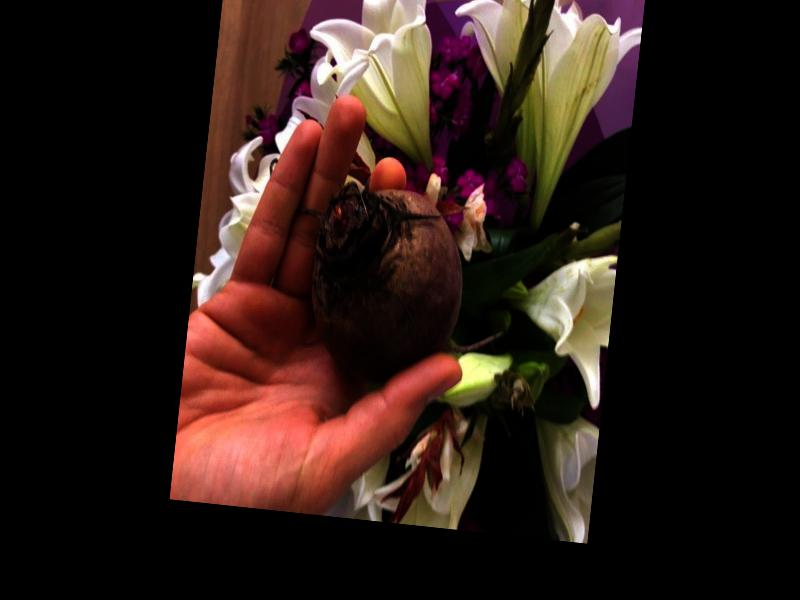Beet: (301, 180, 518, 395)
